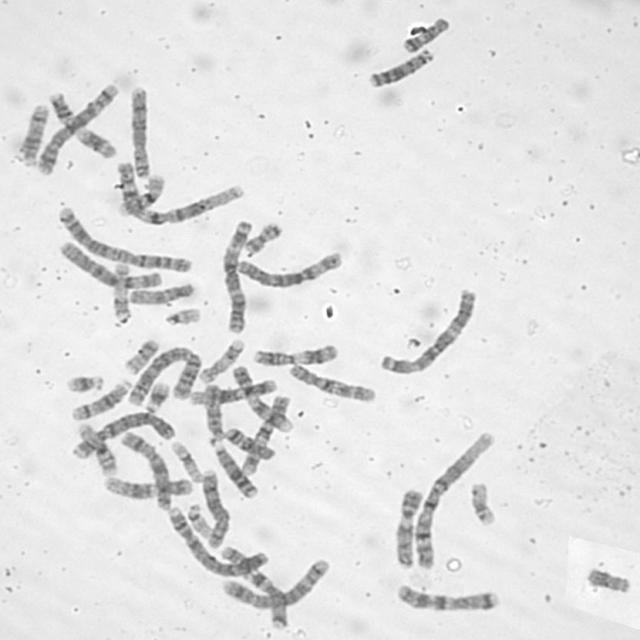A1: (410, 427, 498, 571), (114, 160, 245, 227)
A2: (53, 202, 196, 275), (124, 342, 204, 407)
A3: (376, 283, 481, 376), (220, 216, 254, 334)
B4: (162, 503, 268, 579), (70, 408, 178, 460)
B5: (32, 80, 120, 176), (218, 554, 333, 610)
C10: (238, 390, 292, 476), (284, 360, 379, 405)
C11: (42, 86, 120, 162), (248, 340, 342, 368)
C12: (100, 472, 195, 501), (185, 376, 278, 405)
C6: (57, 238, 165, 290), (232, 247, 346, 289)
C7: (217, 542, 290, 630), (392, 579, 502, 614)
C8: (125, 82, 154, 180), (199, 466, 231, 551)
C9: (230, 362, 294, 433), (391, 486, 425, 568)
D13: (208, 435, 259, 501), (365, 45, 436, 89)
D14: (67, 377, 133, 422), (18, 99, 52, 167)
D15: (126, 279, 197, 306), (201, 380, 227, 443)
E16: (74, 420, 120, 478), (115, 171, 166, 217)
E17: (196, 335, 246, 384), (109, 259, 132, 324)
E18: (222, 424, 277, 461), (400, 14, 450, 54)
F19: (465, 476, 499, 528), (167, 438, 205, 483)
F20: (121, 336, 162, 376), (242, 219, 284, 256)
G21: (141, 377, 173, 414), (62, 370, 106, 395)
G22: (184, 500, 218, 540), (161, 304, 203, 327)
X: (117, 427, 175, 513)
Y: (583, 563, 634, 594)
